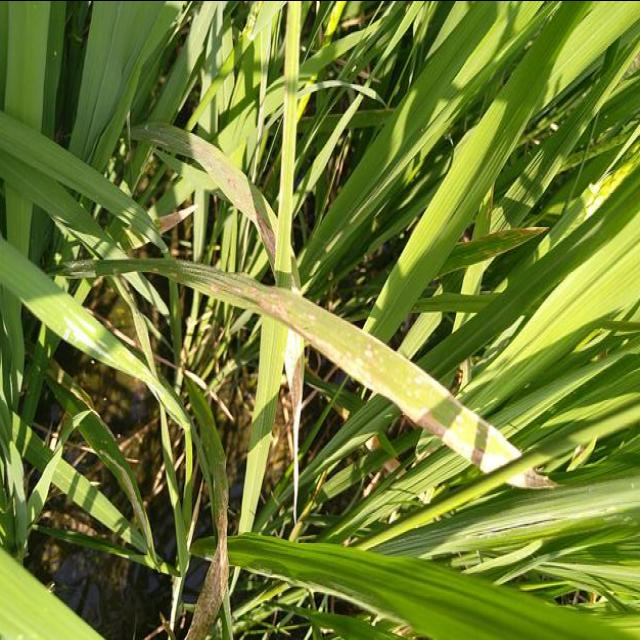Leaf Streak: (91, 257, 520, 471), (130, 121, 275, 256), (186, 376, 228, 640), (284, 328, 304, 520), (448, 226, 548, 263), (508, 467, 556, 489), (290, 248, 302, 291)
